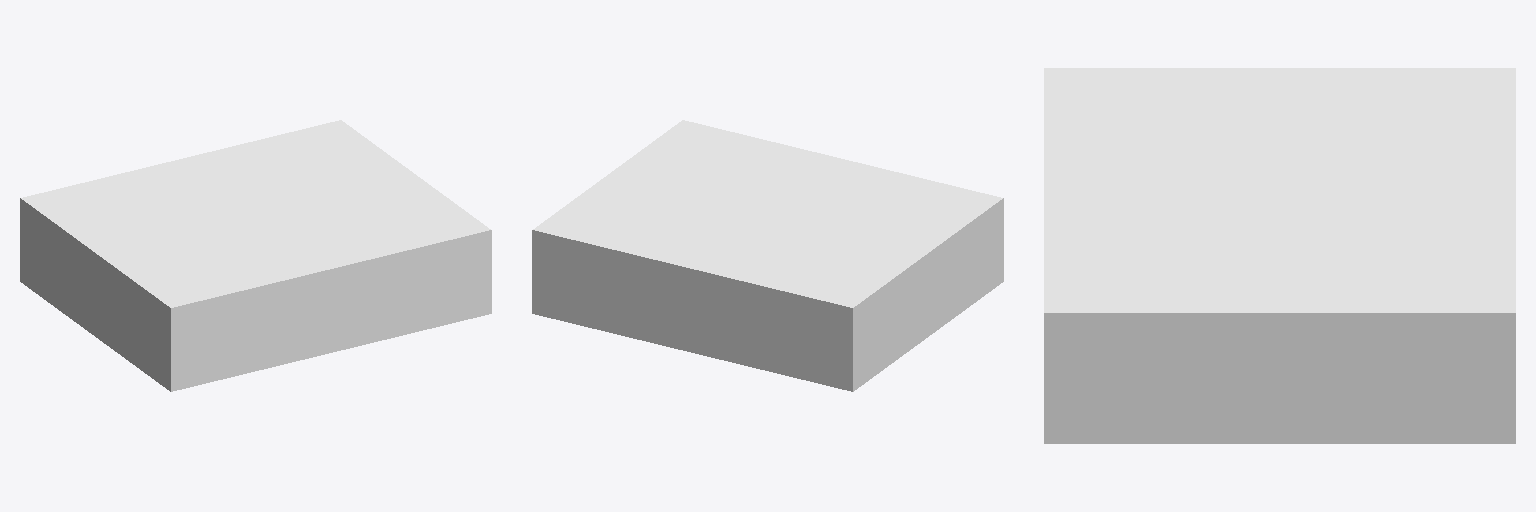
URDF robot description (apple.urdf):
<?xml version="0.0" ?>
<robot name="apple.urdf">
  <link name="baseLink">
    <contact>
      <lateral_friction value="0.3"/>
      <stiffness value="10000.0"/>
    </contact>
    <inertial>
      <origin rpy="0 0 0" xyz="0 0 0"/>
       <mass value="0.1"/>
       <inertia ixx="1" ixy="0" ixz="0" iyy="1" iyz="0" izz="1"/>
    </inertial>
    <visual>
      <origin rpy="0 0 0" xyz="0 0 0"/>
      <geometry>
            <mesh filename="chips.stl" scale="0.001 0.001 0.001"/>
      </geometry>
       <material name="white">
        <color rgba="1 1 1 1"/>
      </material>
    </visual>
    <collision>
      <origin rpy="0 0 0" xyz="0 0 0"/>
      <geometry>
	 	<mesh filename="chips.stl" scale="0.0005 0.0005 0.0015"/>
      </geometry>
    </collision>
  </link>  
</robot>

--- What the picture shows (computed from the rendered views, not written in the file) ---
3 views of the same robot in one strip: view 1: azimuth 30°, elevation 25°; view 2: azimuth 150°, elevation 25°; view 3: azimuth 270°, elevation 25° (orthographic).
Robot: apple.urdf — 1 links, 0 joints (none); root link baseLink; default pose: every joint at zero.
Visible links, largest first — view 1: baseLink; view 2: baseLink; view 3: baseLink.
Link boxes in pixels (x1,y1,x2,y2): baseLink: (20, 120, 491, 391); baseLink: (532, 120, 1003, 391); baseLink: (1044, 68, 1515, 443).
Size in the robot's own frame: 0.08 by 0.065 by 0.02 metres.
1 mesh visuals loaded from 1 distinct referenced files (1 binary STL).